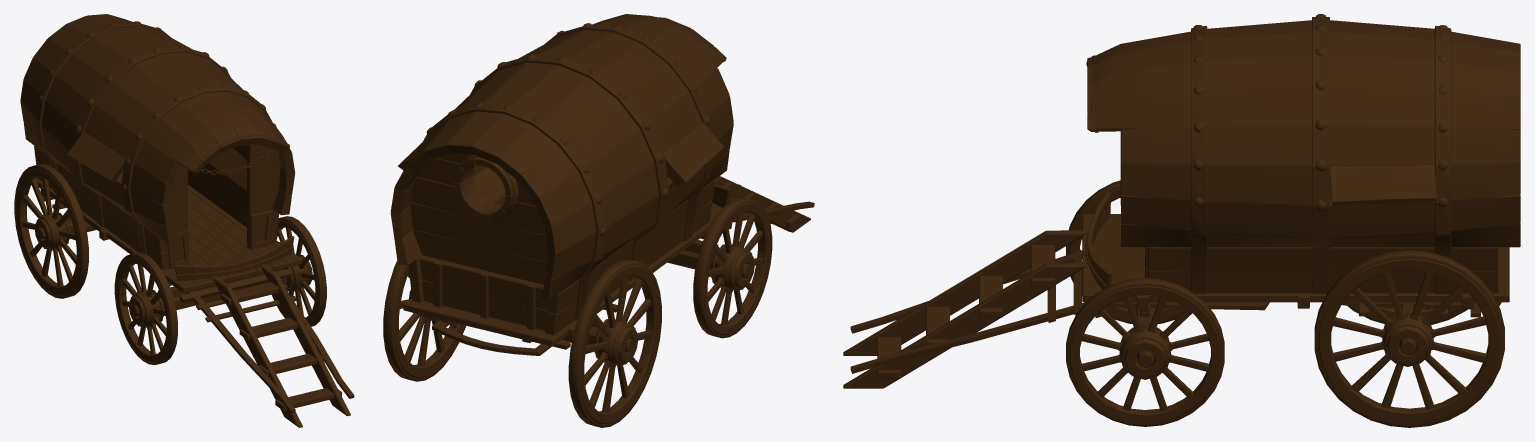
File: SM_Carriage_Main_Unity.fbx
3 views of the same model, side by side, from view 1: azimuth 30°, elevation 25°; view 2: azimuth 150°, elevation 25°; view 3: azimuth 270°, elevation 25° (orthographic). The views are drawn at different scales.
Visible parts, largest first — view 1: SM_Carriage_Roof_low; view 2: SM_Carriage_Roof_low; view 3: SM_Carriage_Roof_low.
Boxes of the visible parts, <box> form: SM_Carriage_Roof_low: <box>14,14,354,427</box>; SM_Carriage_Roof_low: <box>383,14,814,427</box>; SM_Carriage_Roof_low: <box>843,14,1520,427</box>.
Size of the model in its own units: 388 by 484 by 849.
